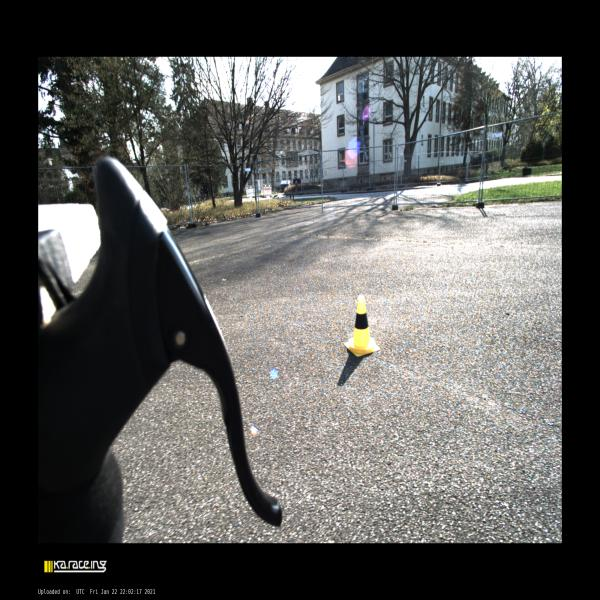yellow_cone: (344, 296, 380, 356)
